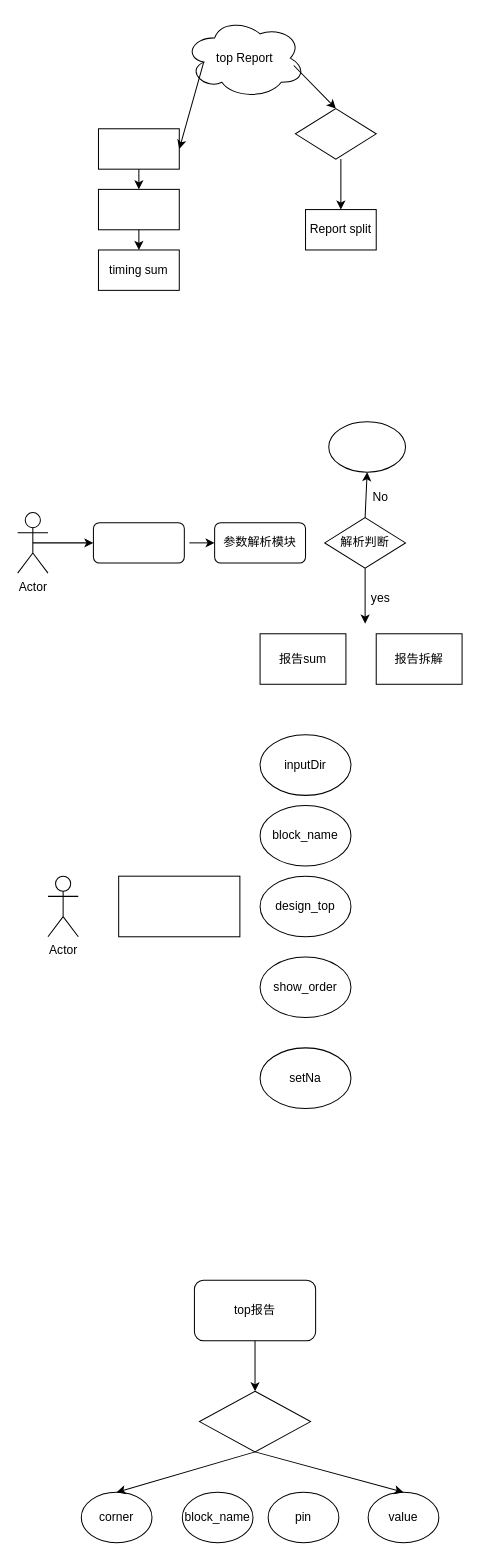
This 480x1560 diagram has some shape labels left out. Here are the shapes that lost their labels. From the top down, the centre of each, then its label:
(x=138, y=148): Report提取
(x=335, y=133): map
(x=138, y=209): viol 计算
(x=367, y=446): 输出错误信息
(x=138, y=542): 接受命令行参数
(x=179, y=906): 用户输入
(x=254, y=1421): 正则表达式
